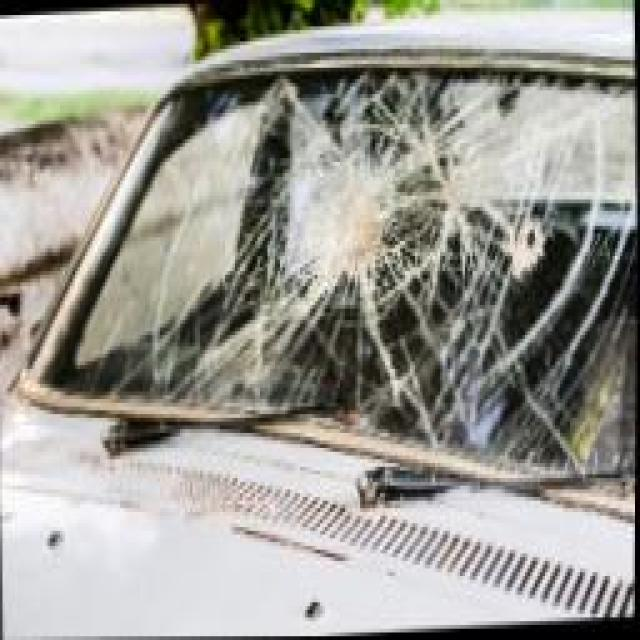Windshield: (24, 62, 638, 494)
